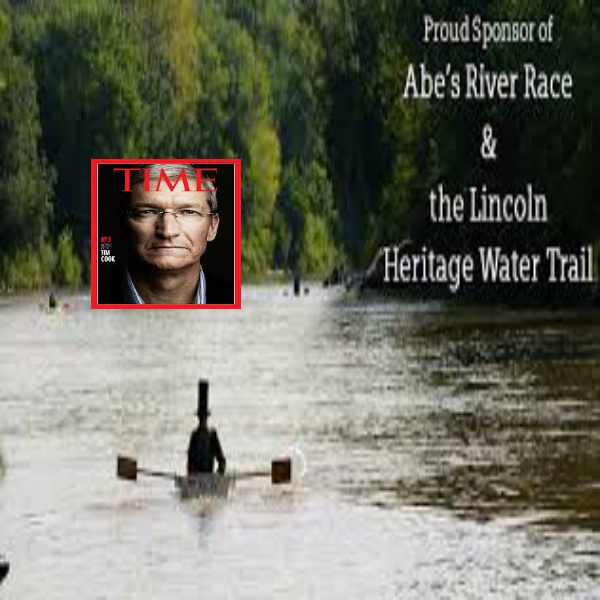time_cover: (85, 154, 241, 318)
